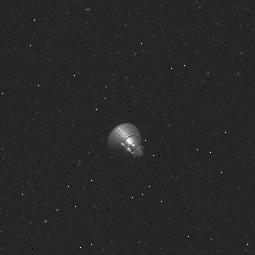debris: (105, 118, 150, 165)
